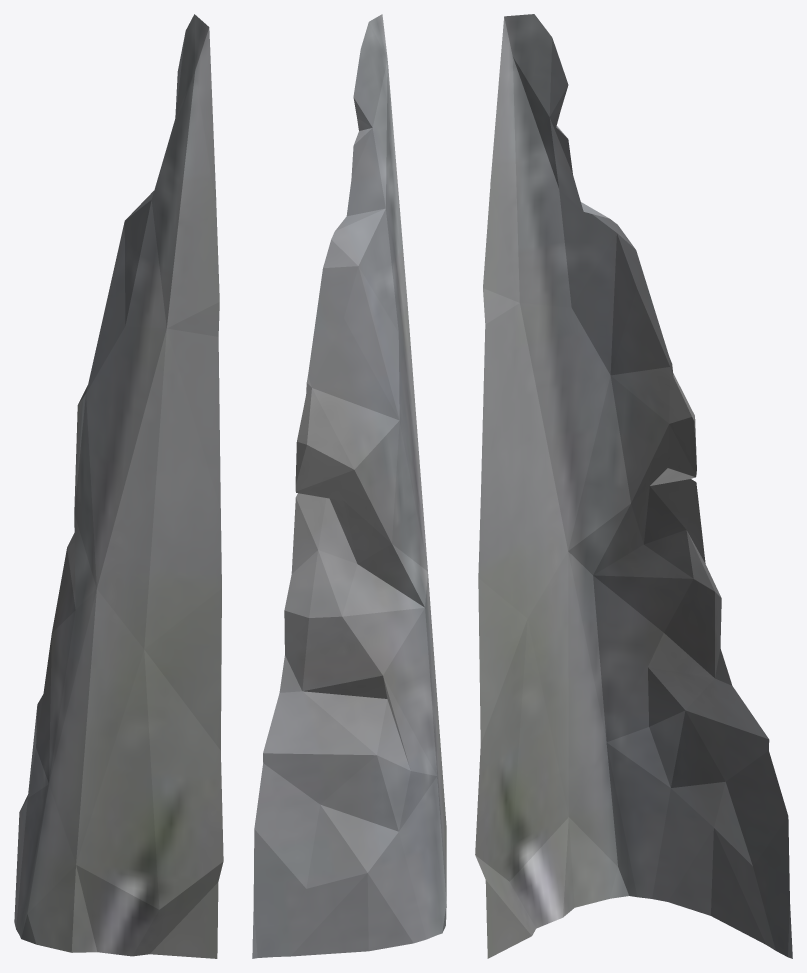
The picture shows the model from 3 angles, left to right: view 1: azimuth 30°, elevation 25°; view 2: azimuth 150°, elevation 25°; view 3: azimuth 270°, elevation 25°; orthographic projection. The views are drawn at different scales.
Bounding box in the file's own units: 0.1368 × 0.957 × 0.2916.
Materials: 1 (1 with a texture image).
